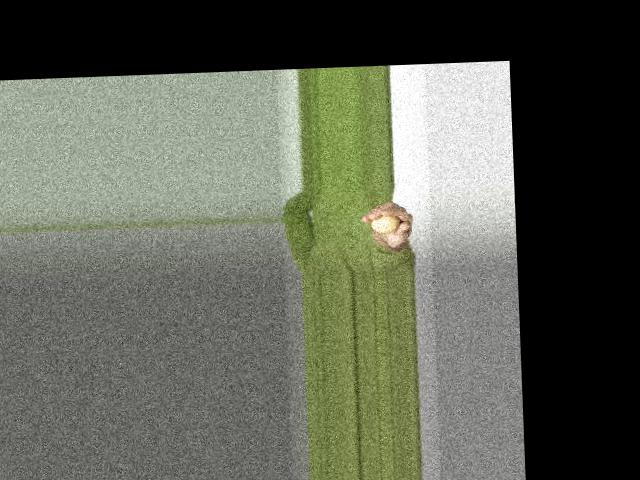egg: (370, 214, 400, 233)
